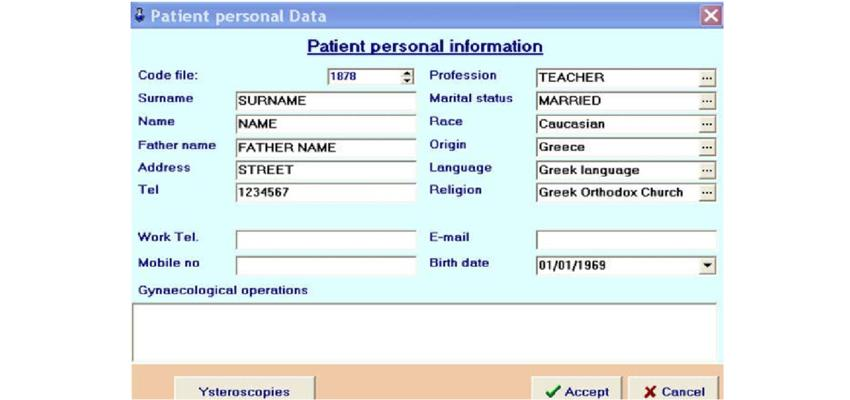dropdown: (530, 66, 722, 94), (533, 183, 720, 204)
textbox: (228, 224, 427, 254), (228, 88, 424, 116)
